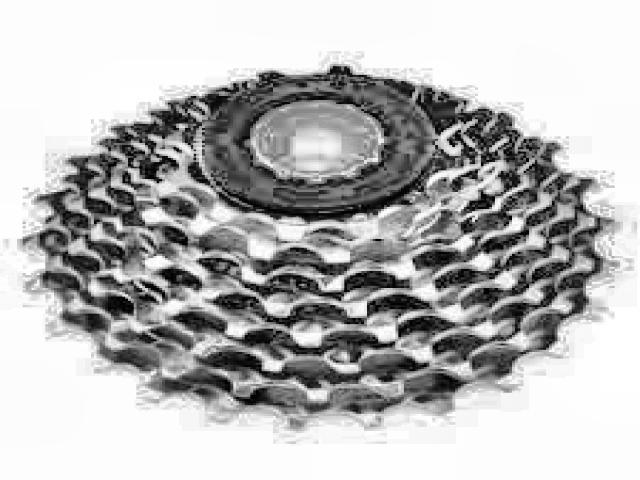cassette: (21, 59, 624, 432)
